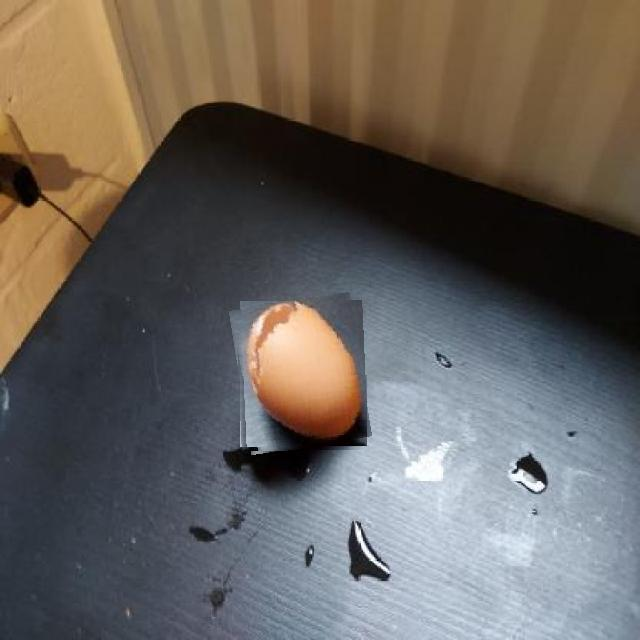biodegradable: (235, 297, 367, 451)
